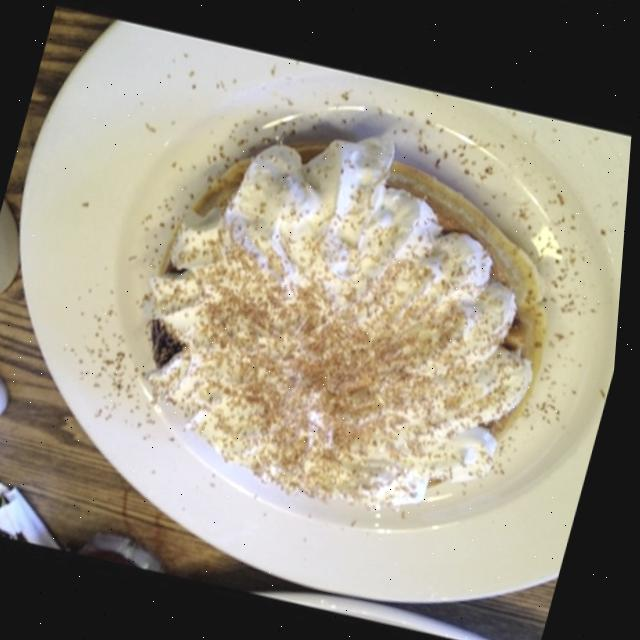炸货点心: (85, 79, 603, 555)
蛋糕甜品: (85, 79, 603, 555)
